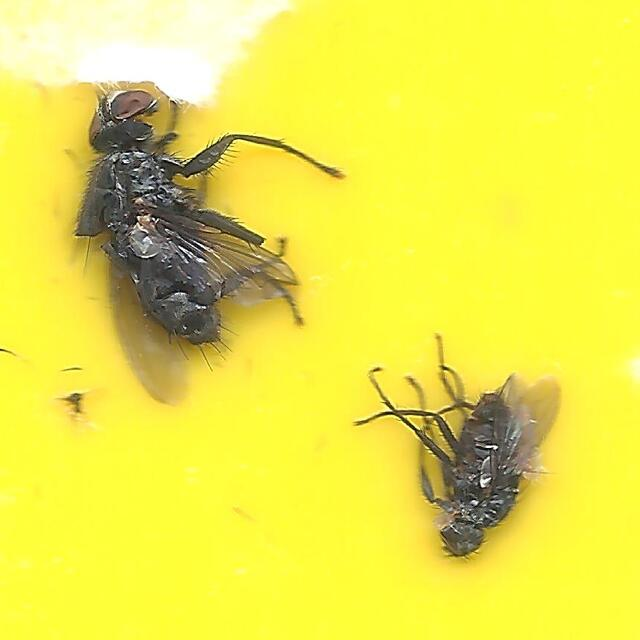Brachycera: (75, 80, 345, 409), (353, 332, 565, 560)
